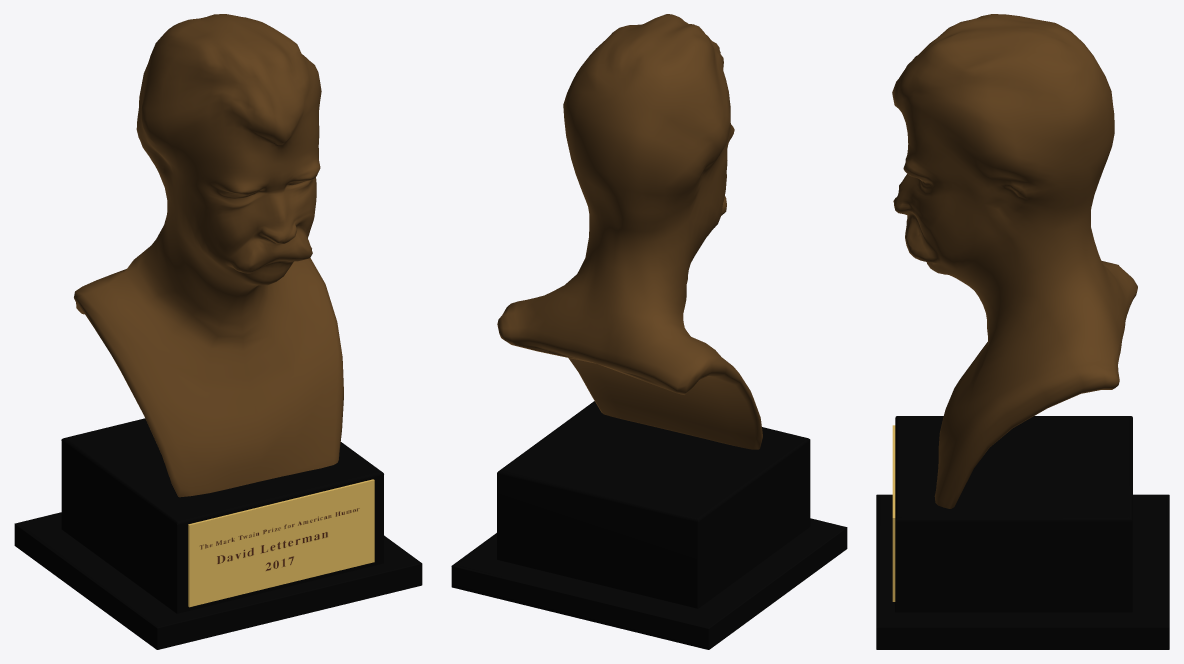
3 renders of one model, left to right at view 1: azimuth 30°, elevation 25°; view 2: azimuth 150°, elevation 25°; view 3: azimuth 270°, elevation 25°, orthographic. The views are drawn at different scales.
Visible parts, largest first — view 1: Twain_Retopo_LowPoly1, Base, Base1, Plaque; view 2: Twain_Retopo_LowPoly1, Base, Base1; view 3: Twain_Retopo_LowPoly1, Base, Base1, Plaque.
Boxes of the visible parts, x1,y1,x2,y2 form: Twain_Retopo_LowPoly1: (74,14,343,497); Base: (61,418,383,613); Base1: (14,512,422,649); Plaque: (188,479,374,607); Twain_Retopo_LowPoly1: (497,14,762,449); Base: (497,401,810,608); Base1: (451,518,847,649); Twain_Retopo_LowPoly1: (892,14,1137,508); Base: (895,416,1132,612); Base1: (876,494,1169,649); Plaque: (892,425,895,601).
Size of the model in its own units: 1.02 by 1.99 by 0.9491.
Materials: 3 (1 with a texture image).
